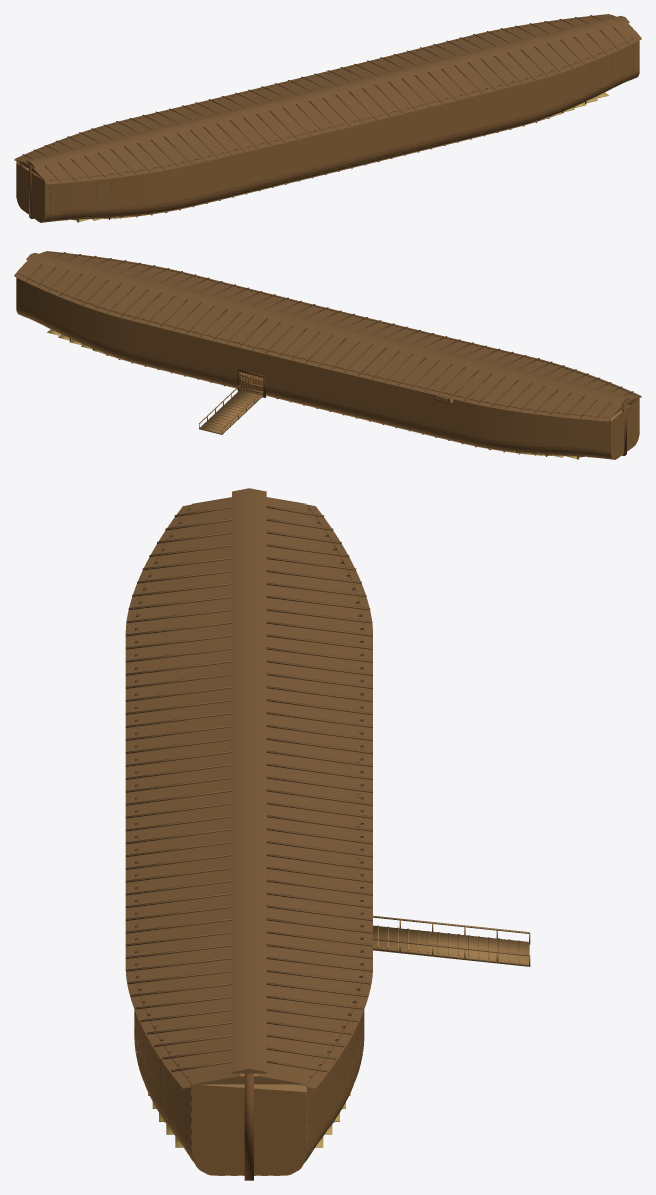
Rendered from ark.glb.
3 renders of one model, top to bottom at view 1: azimuth 30°, elevation 25°; view 2: azimuth 150°, elevation 25°; view 3: azimuth 270°, elevation 25°, orthographic. The views are drawn at different scales.
Visible parts, largest first — view 1: roof_planks, hull_planks, ridge, cover, frames, deck_0; view 2: roof_planks, hull_planks, ridge, cover, ramp, frames, deck_0, door; view 3: roof_planks, ridge, hull_planks, cover, ramp, frames.
Part boxes in pixels (x1,y1,x2,y2): roof_planks: [14, 14, 641, 184]; hull_planks: [16, 14, 639, 222]; ridge: [26, 16, 629, 167]; cover: [258, 69, 359, 98]; frames: [20, 15, 633, 221]; deck_0: [104, 107, 573, 218]; roof_planks: [14, 251, 641, 421]; hull_planks: [16, 251, 639, 459]; ridge: [26, 253, 629, 404]; cover: [257, 323, 364, 371]; ramp: [199, 385, 262, 434]; frames: [22, 252, 635, 458]; deck_0: [82, 344, 551, 455]; door: [239, 372, 263, 395]; roof_planks: [125, 497, 372, 1088]; ridge: [232, 488, 266, 1073]; hull_planks: [134, 504, 364, 1175]; cover: [266, 748, 372, 839]; ramp: [373, 915, 530, 966]; frames: [135, 508, 363, 1180].
Bounding box in the file's own units: 135 × 14.25 × 39.77.
